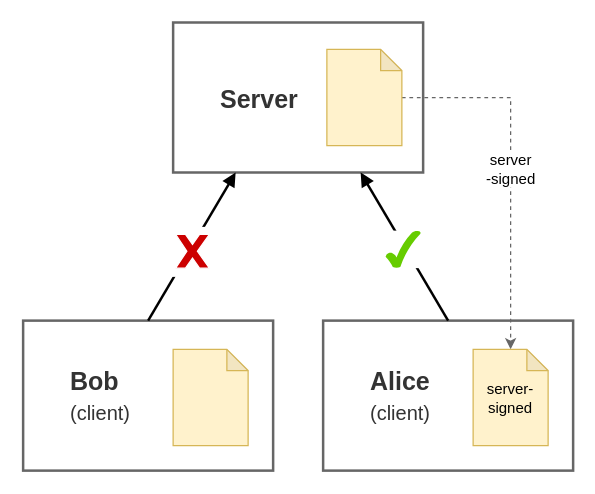
This 595x494 diagram has some shape labels left out. Each missing label, with the centre of its shape:
"self-signed" goes at point (210, 397).
"Server Cert" goes at point (364, 97).
